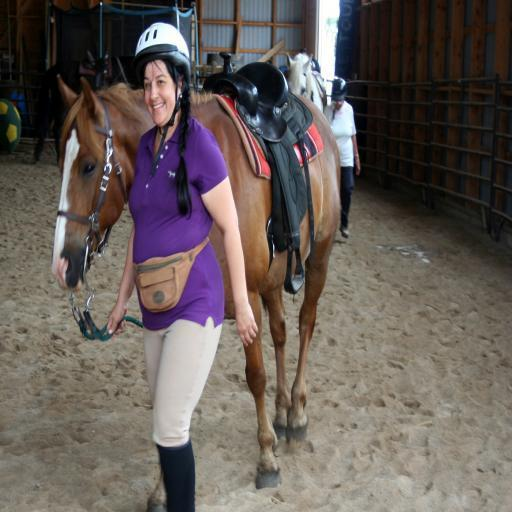horse: (50, 72, 342, 512), (284, 50, 328, 114)
